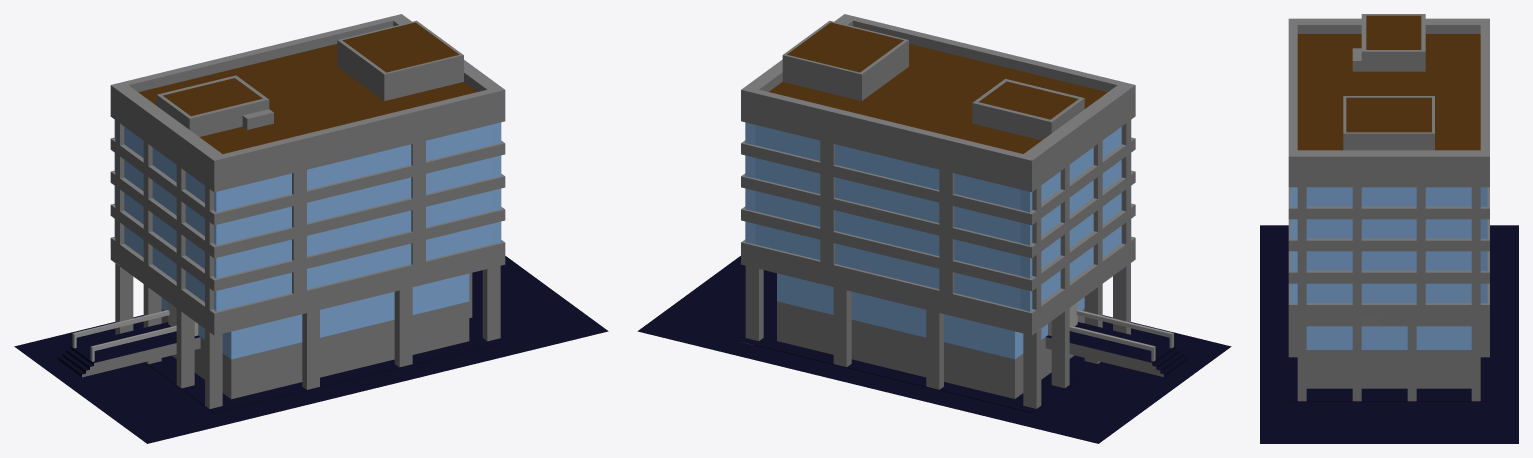
The model's file is EEE.glb.
3 views of the same model, side by side, from view 1: azimuth 30°, elevation 25°; view 2: azimuth 150°, elevation 25°; view 3: azimuth 270°, elevation 25° (orthographic). The views are drawn at different scales.
Visible parts, largest first — view 1: EEE; view 2: EEE; view 3: EEE.
Boxes of the visible parts, x1,y1,x2,y2 form: EEE: (14, 14, 608, 443); EEE: (637, 14, 1231, 443); EEE: (1260, 14, 1518, 443).
Size of the model in its own units: 8.77 by 4.9 by 4.29.
